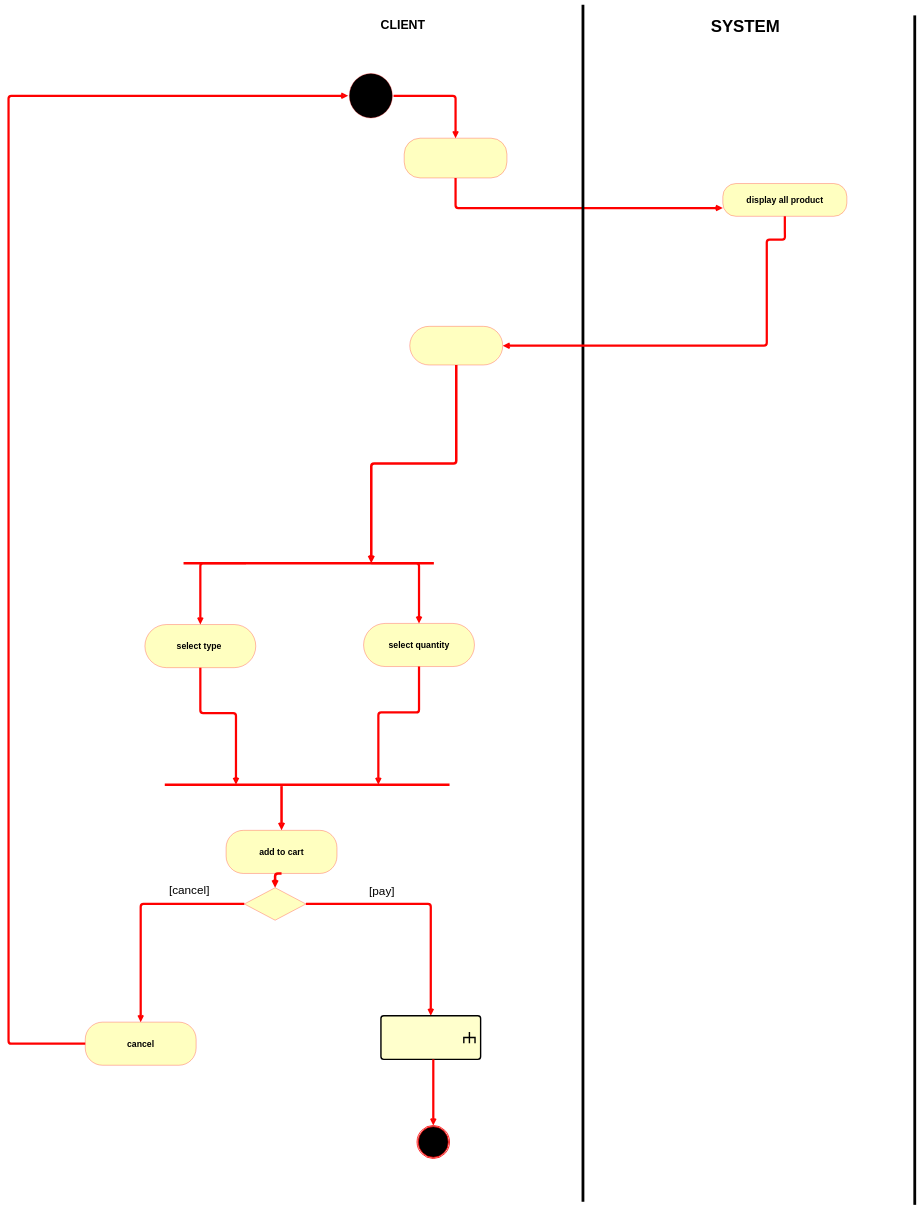
Some shapes in this 921 by 1210 pixel diagram are drawn without their labels. The centre of each missing label's shape, as x and y in pixels:
brows product: the point at 455,158
pay: the point at 430,1037
select product: the point at 456,345
